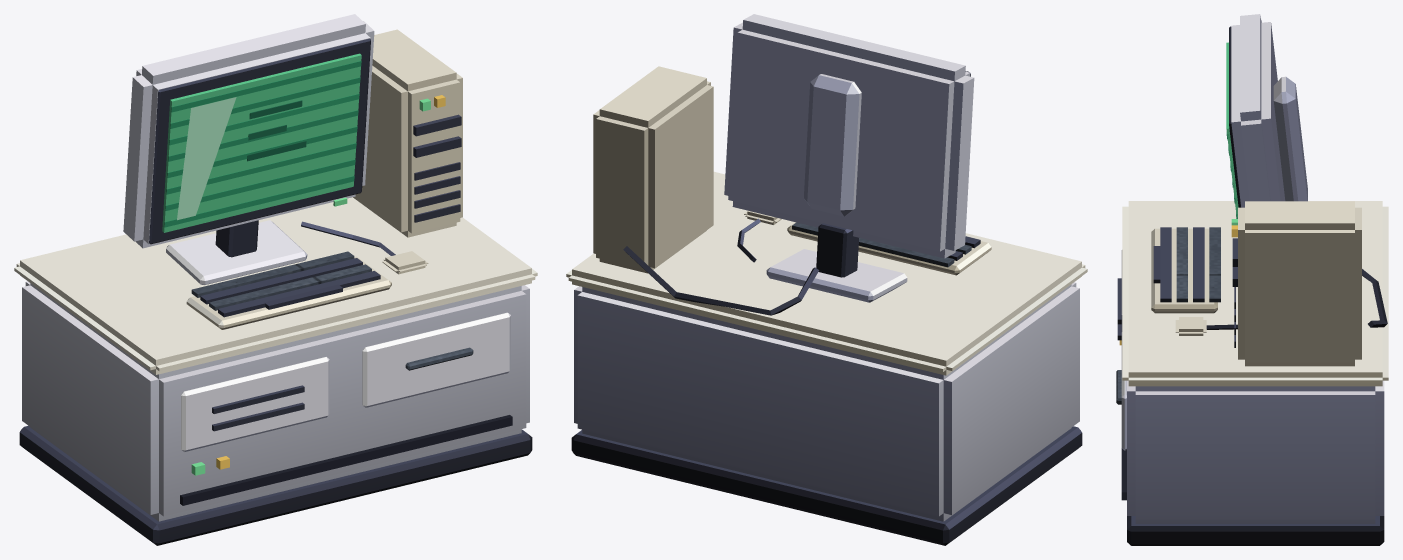
3 renders of one model, left to right at view 1: azimuth 30°, elevation 25°; view 2: azimuth 150°, elevation 25°; view 3: azimuth 270°, elevation 25°, orthographic. The views are drawn at different scales.
Parts seen in each view (by area): view 1: pc; view 2: pc; view 3: pc.
Boxes of the visible parts, x1=… form: pc: x1=14, y1=14, x2=537, y2=545; pc: x1=566, y1=14, x2=1087, y2=545; pc: x1=1116, y1=14, x2=1388, y2=545.
Size of the model in its own units: 0.94 by 0.9667 by 0.614.
Materials: 8 (8 with a texture image).
